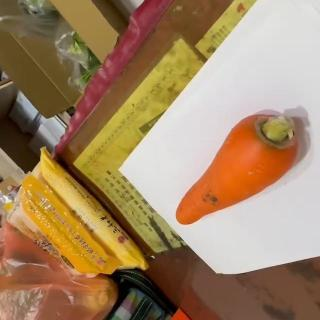carrot: (175, 112, 299, 226)
